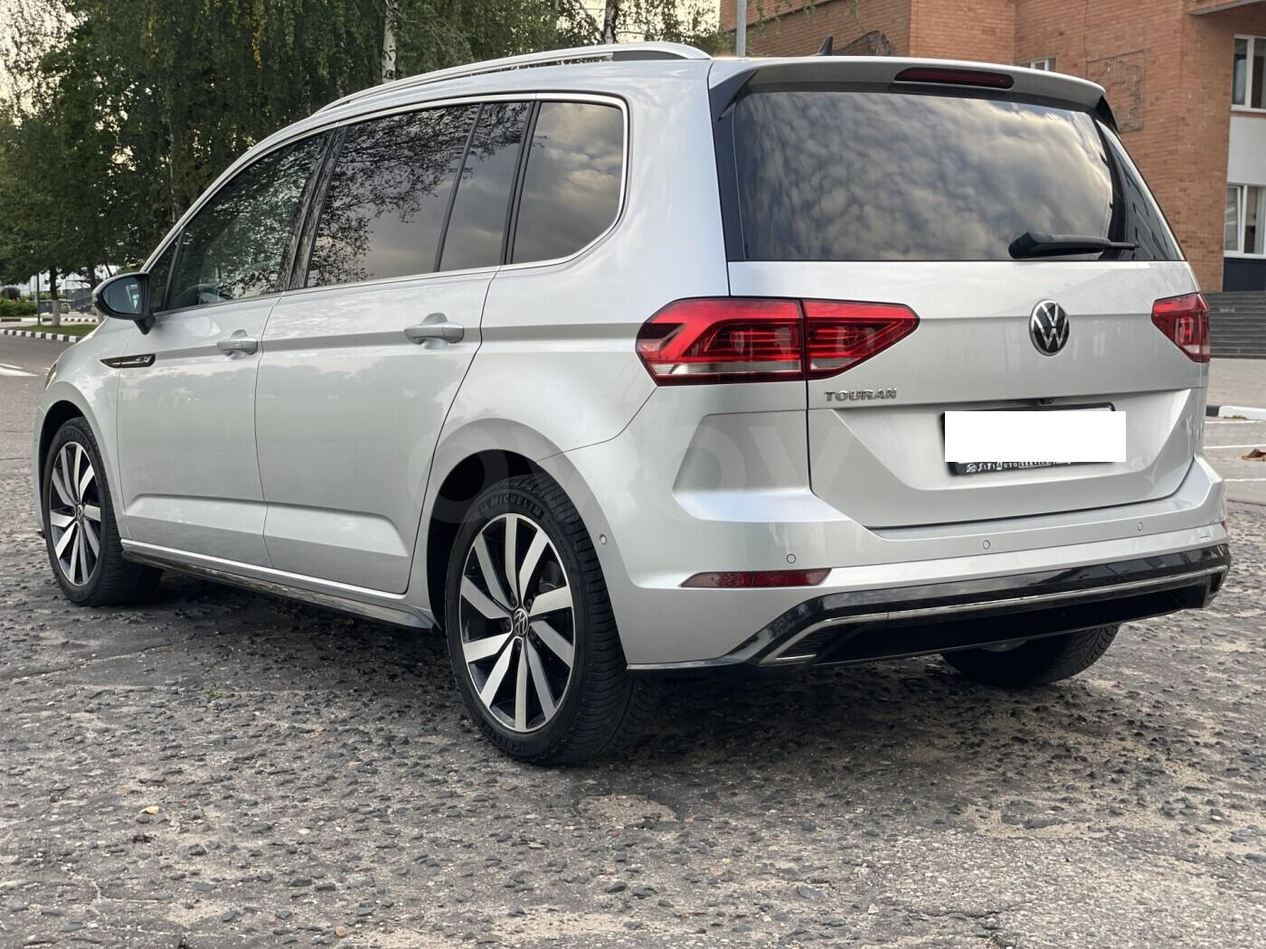Touran_2015: (30, 46, 1232, 760)
